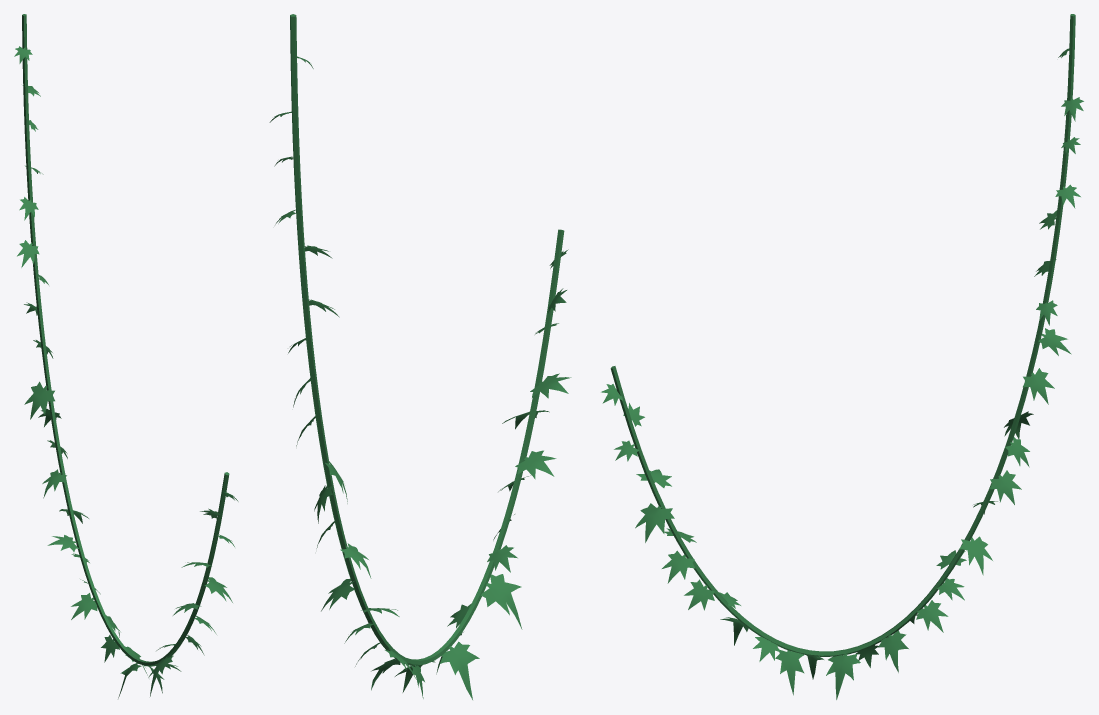
Rendered from vine_hori_E_alangium.fbx.
3 renders of one model, left to right at view 1: azimuth 30°, elevation 25°; view 2: azimuth 150°, elevation 25°; view 3: azimuth 270°, elevation 25°, orthographic. The views are drawn at different scales.
Parts seen in each view (by area): view 1: vine_hori_E_alangium_root, vine_alangium_A_leaf_B170, vine_alangium_A_leaf_B182; view 2: vine_hori_E_alangium_root, vine_alangium_A_leaf_B183, vine_alangium_A_leaf_B184, vine_alangium_A_leaf_B162; view 3: vine_hori_E_alangium_root.
Boxes of the visible parts, left/top/right/bottom form: vine_hori_E_alangium_root: left=22, top=14, right=229, bottom=666; vine_alangium_A_leaf_B170: left=24, top=381, right=54, bottom=419; vine_alangium_A_leaf_B182: left=71, top=593, right=97, bottom=619; vine_hori_E_alangium_root: left=290, top=14, right=564, bottom=665; vine_alangium_A_leaf_B183: left=481, top=574, right=522, bottom=629; vine_alangium_A_leaf_B184: left=440, top=641, right=479, bottom=699; vine_alangium_A_leaf_B162: left=515, top=450, right=556, bottom=479; vine_hori_E_alangium_root: left=610, top=14, right=1075, bottom=656.
Bounding box in the file's own units: 38.25 × 419 × 271.
